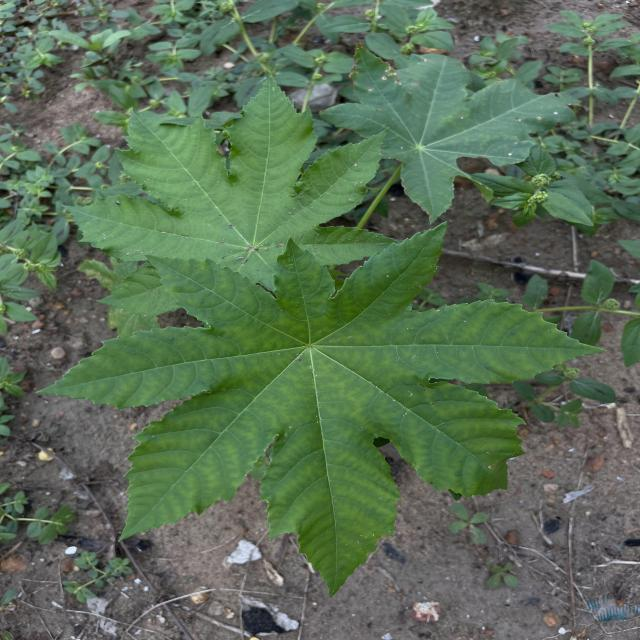Ricinus communis linn: (28, 215, 612, 605), (58, 68, 409, 319)
